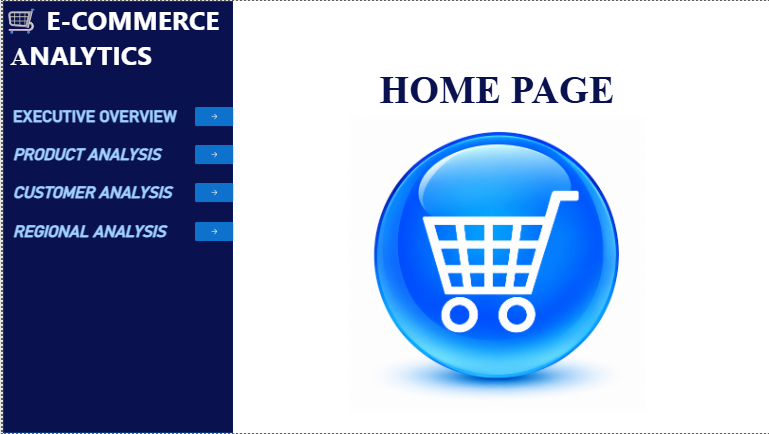

This screenshot's page, from the dashboard's own definition file:
{"tool":"powerbi","page":{"name":"HOME PAGE","canvas":[2560,1440],"ordinal":0},"visuals":[{"type":"shape","box":[0,0,768,1440],"z":0},{"type":"textbox","box":[0,0,800,224],"z":1000},{"type":"shape","title":"PRODUCT ANALYSIS","box":[32,480,640,64],"z":2000},{"type":"shape","title":"CUSTOMER ANALYSIS","box":[32,608,640,64],"z":3000},{"type":"shape","title":"REGIONAL ANALYSIS","box":[32,736,608,64],"z":4000},{"type":"shape","title":"EXECUTIVE OVERVIEW","box":[32,352,608,64],"z":5000},{"type":"shape","box":[768,0,1792,1440],"z":7000},{"type":"textbox","box":[768,0,1792,1440],"z":8000},{"type":"actionButton","box":[640,352,128,64],"z":9000},{"type":"actionButton","box":[640,608,128,64],"z":10000},{"type":"actionButton","box":[640,480,128,64],"z":11000},{"type":"actionButton","box":[640,736,128,64],"z":12000},{"type":"image","box":[1056,384,1184,992],"z":13000}]}

Visuals, with their boxes in screenshot pixels (x1, y1, x2, y2), scaled from the page's 2560x1440 canvas onto the 769x434 screenshot:
shape: [x1=0, y1=0, x2=231, y2=433]
textbox: [x1=0, y1=0, x2=240, y2=68]
"PRODUCT ANALYSIS" shape: [x1=10, y1=145, x2=202, y2=164]
"CUSTOMER ANALYSIS" shape: [x1=10, y1=183, x2=202, y2=203]
"REGIONAL ANALYSIS" shape: [x1=10, y1=222, x2=192, y2=241]
"EXECUTIVE OVERVIEW" shape: [x1=10, y1=106, x2=192, y2=125]
shape: [x1=231, y1=0, x2=768, y2=433]
textbox: [x1=231, y1=0, x2=768, y2=433]
actionButton: [x1=192, y1=106, x2=231, y2=125]
actionButton: [x1=192, y1=183, x2=231, y2=203]
actionButton: [x1=192, y1=145, x2=231, y2=164]
actionButton: [x1=192, y1=222, x2=231, y2=241]
image: [x1=317, y1=116, x2=673, y2=415]
